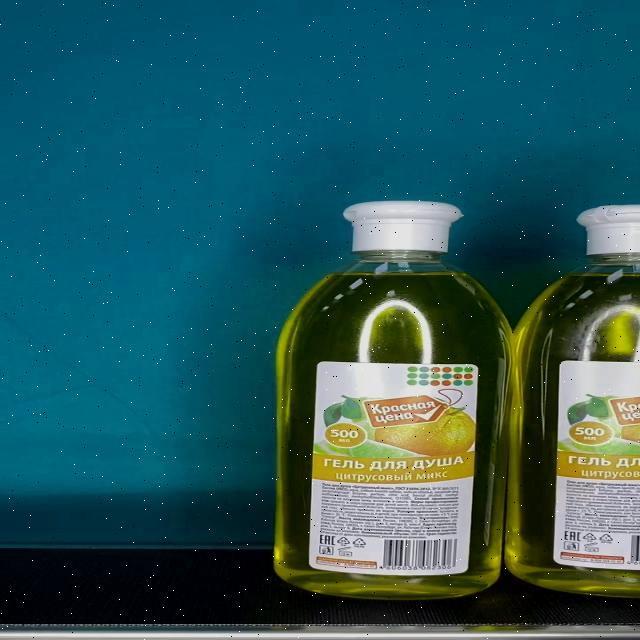Bottle: (276, 199, 514, 600)
Cap: (342, 201, 463, 253)
